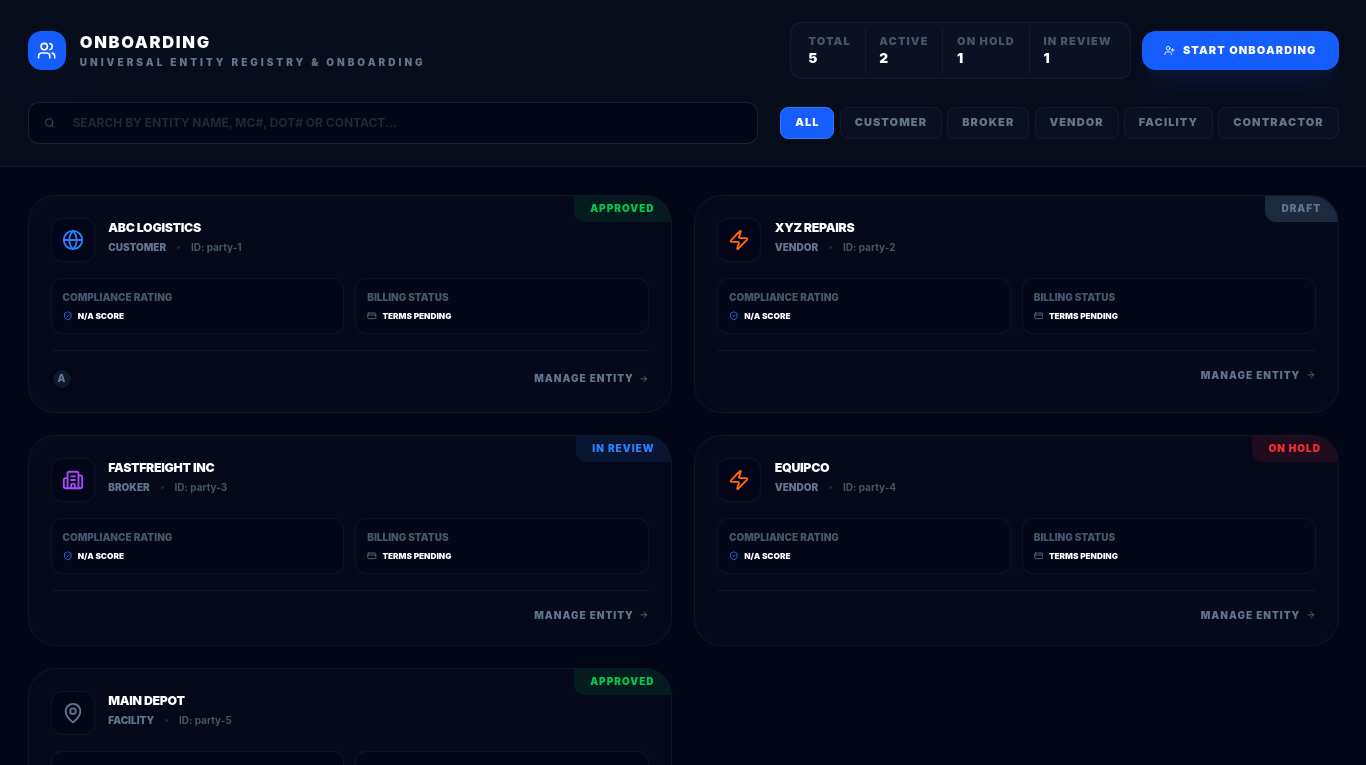
Test: NetworkPortal coverage — deeper interactions › filters parties by search query
Check: the heading "ABC Logistics" is shown, box [108,220,201,235]
Type "XYZ" into the field with placeholder "SEARCH BY ENTITY NAME, MC#, DOT# OR CONTACT..." at (393, 123), box [28,102,758,144]
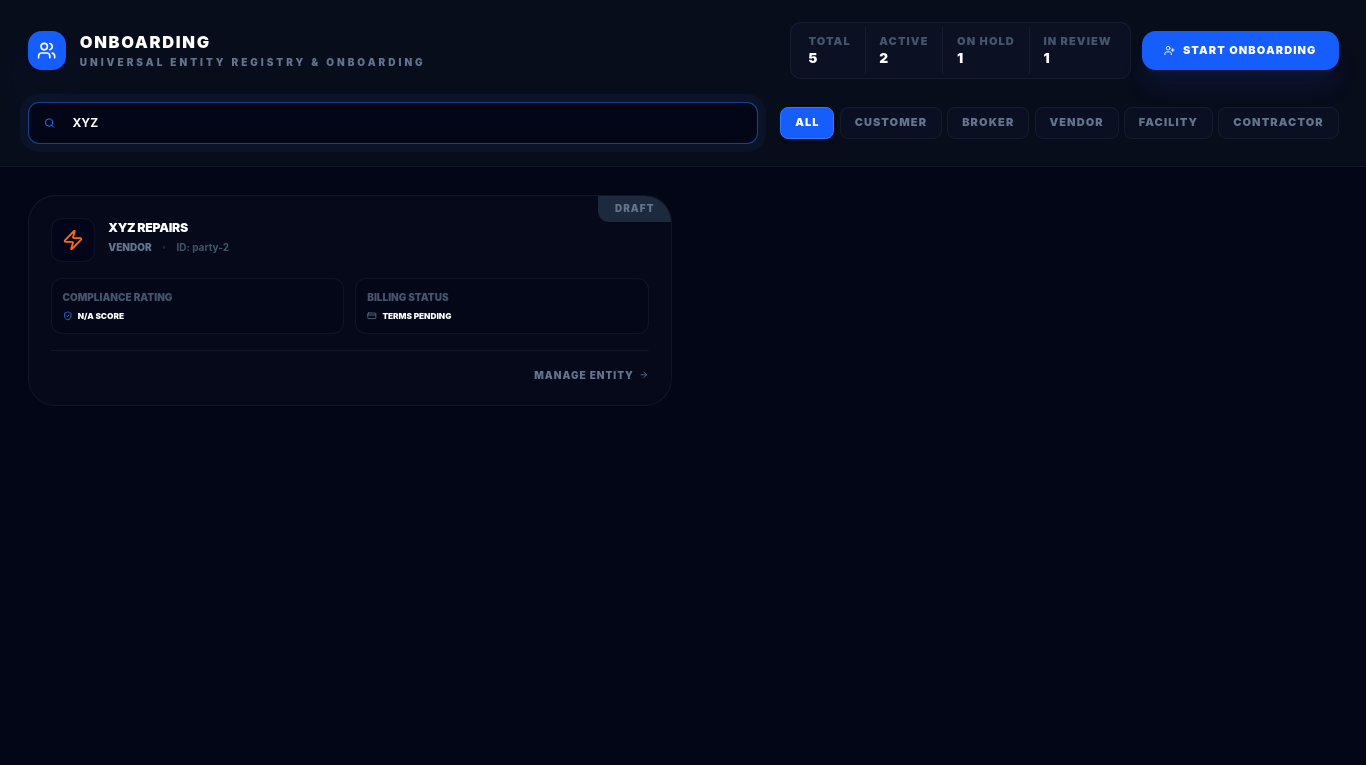
Check: the heading "XYZ Repairs" is shown, box [108,220,188,235]
Check: the heading "ABC Logistics" is gone
